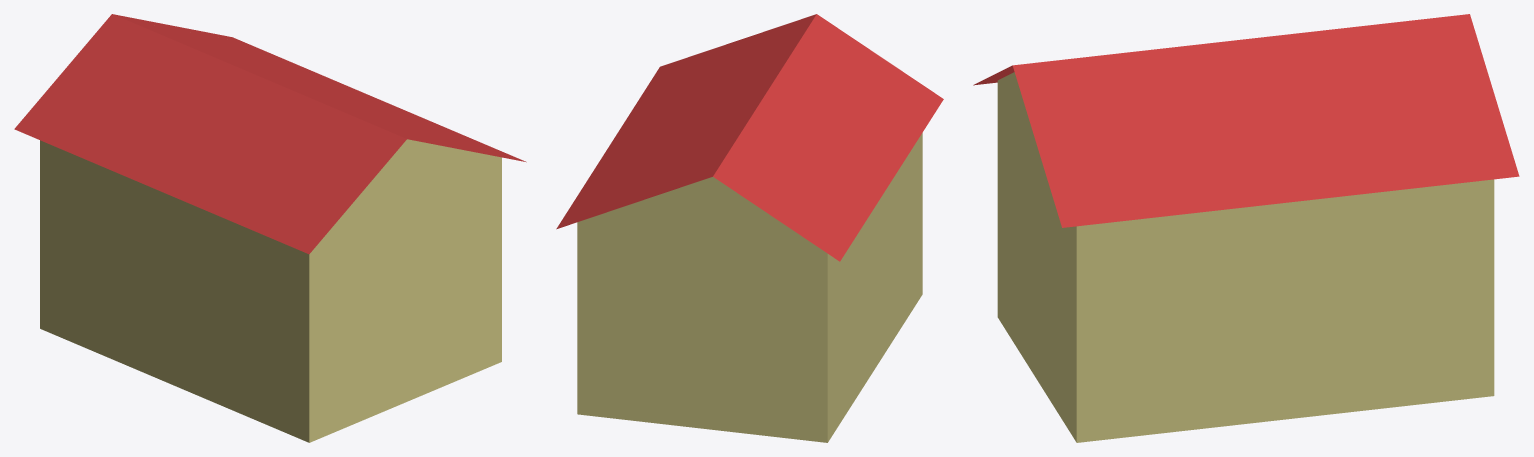
The picture shows the model from 3 angles, left to right: view 1: azimuth 30°, elevation 25°; view 2: azimuth 150°, elevation 25°; view 3: azimuth 270°, elevation 25°; orthographic projection. The views are drawn at different scales.
Bounding box in the file's own units: 16.71 × 19.92 × 12.44.
